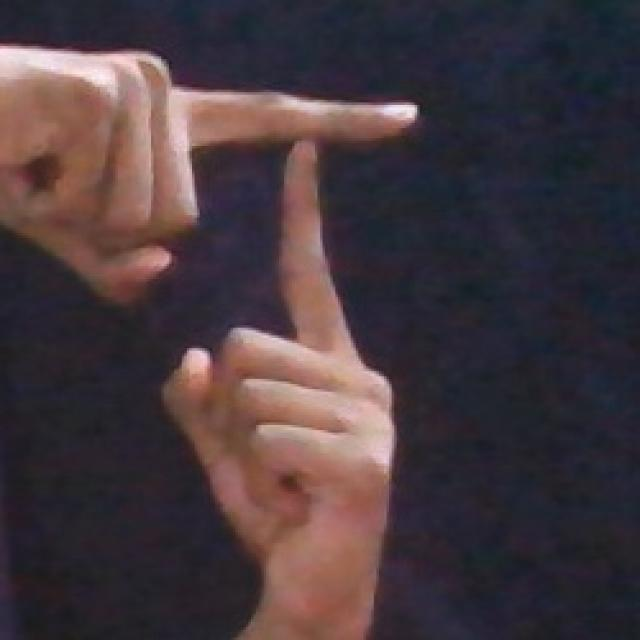Alphabet-T: (8, 27, 430, 640)
